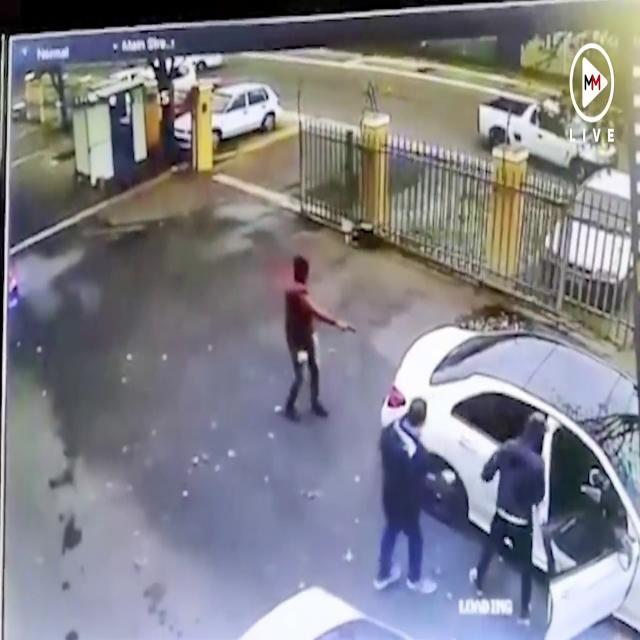weapon: (338, 314, 359, 340)
